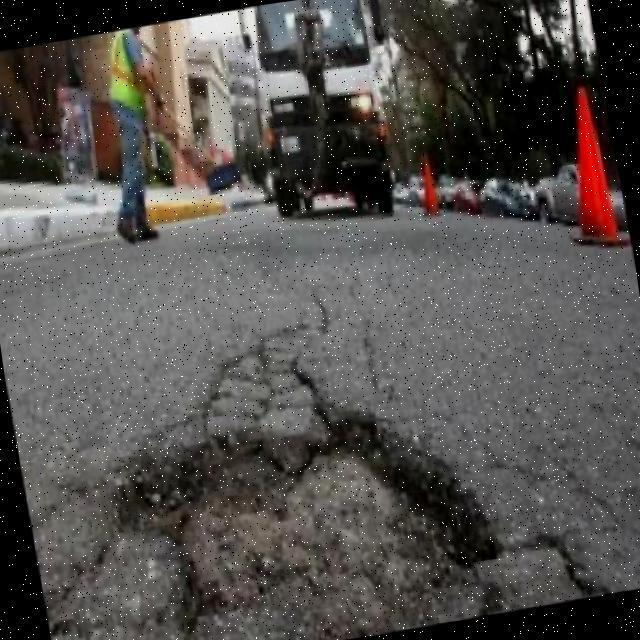Pothole: (131, 420, 500, 640)
